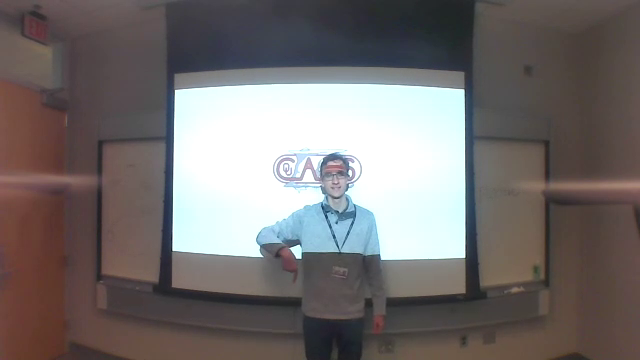down: (277, 249, 303, 288)
